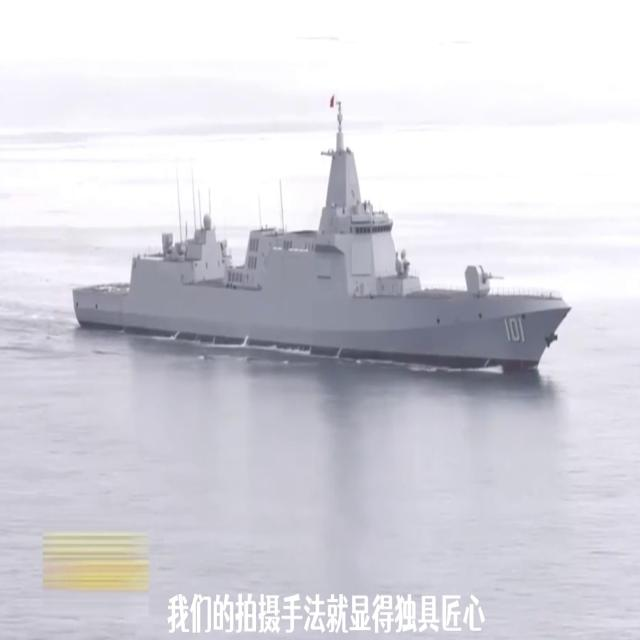navalvessels: (72, 97, 570, 373)
